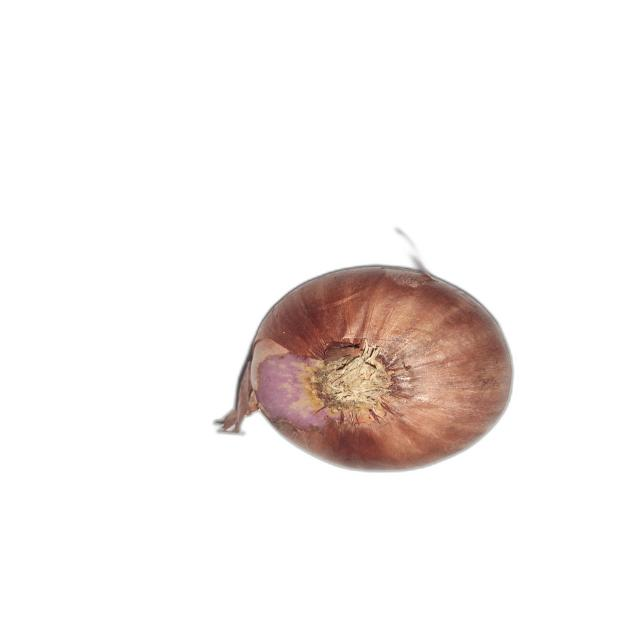onion: (217, 255, 514, 472)
